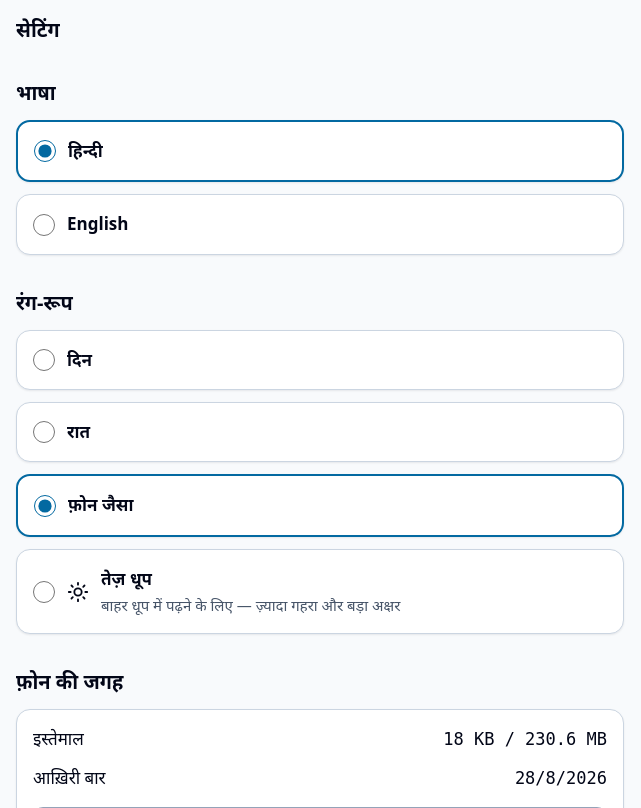
Scenario: Settings screen › switches the whole interface to English
Click the text "English": {"x": 98, "y": 224} [67,212,128,235]
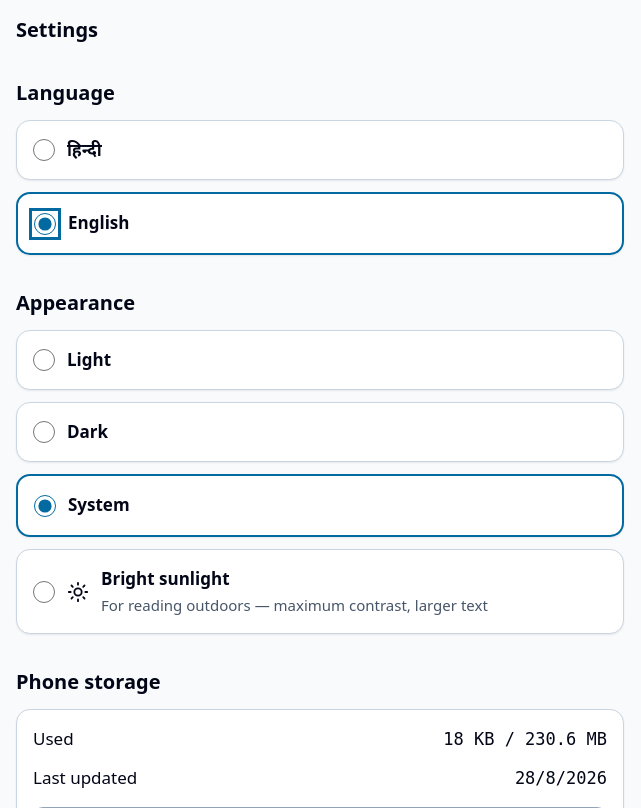
Expected: the heading "Settings" is shown, [16,16,98,43]
